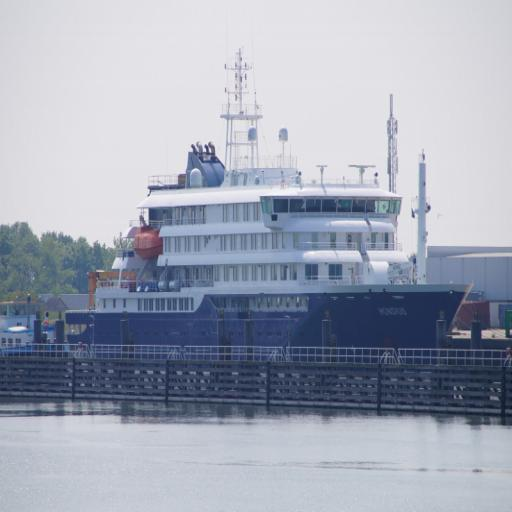cruises: (60, 52, 479, 376)
